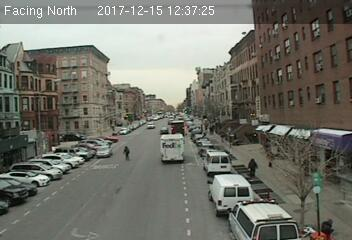car: (96, 145, 111, 157), (159, 126, 168, 133)
pedestrian: (246, 156, 258, 183), (266, 149, 274, 169)
police: (225, 198, 305, 240)
truck: (206, 173, 255, 215), (160, 135, 184, 163), (203, 151, 232, 174)
ups: (170, 120, 184, 134)
